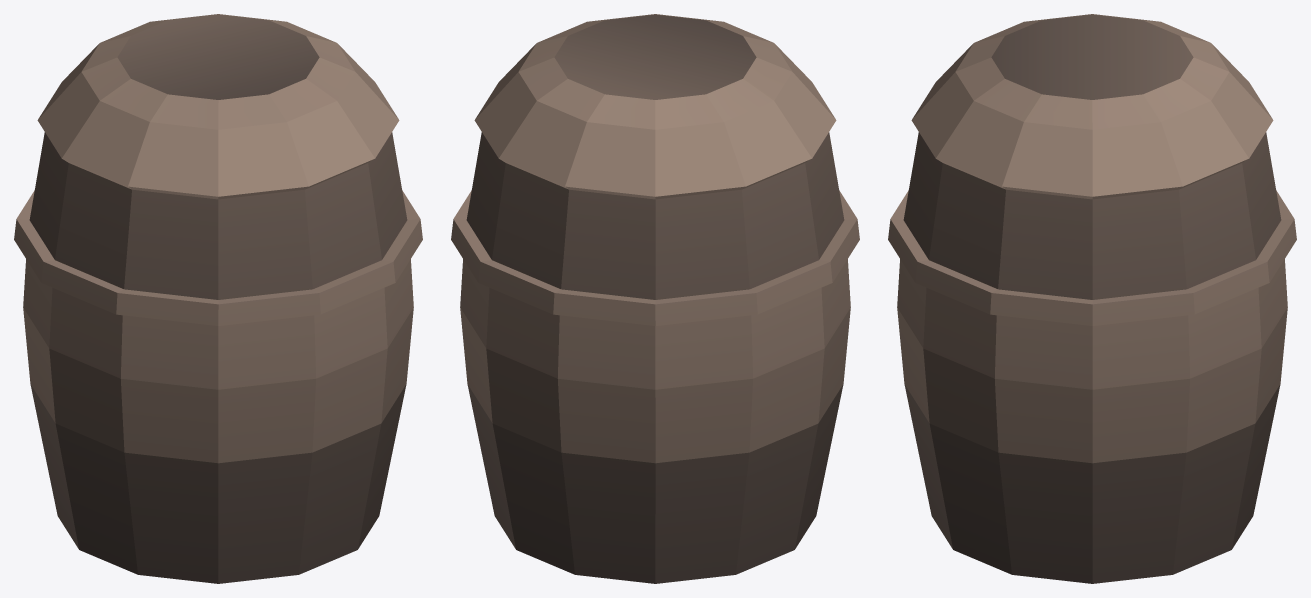
File: B01_Pot.fbx
3 views of the same model, side by side, from view 1: azimuth 30°, elevation 25°; view 2: azimuth 150°, elevation 25°; view 3: azimuth 270°, elevation 25° (orthographic).
Visible parts, largest first — view 1: B01_Pot; view 2: B01_Pot; view 3: B01_Pot.
Part boxes in pixels (box(x1,y1,x2,y2)): B01_Pot: box(14, 14, 422, 583); B01_Pot: box(451, 14, 859, 583); B01_Pot: box(888, 14, 1296, 583).
Size of the model in its own units: 88.66 by 110 by 88.66.
